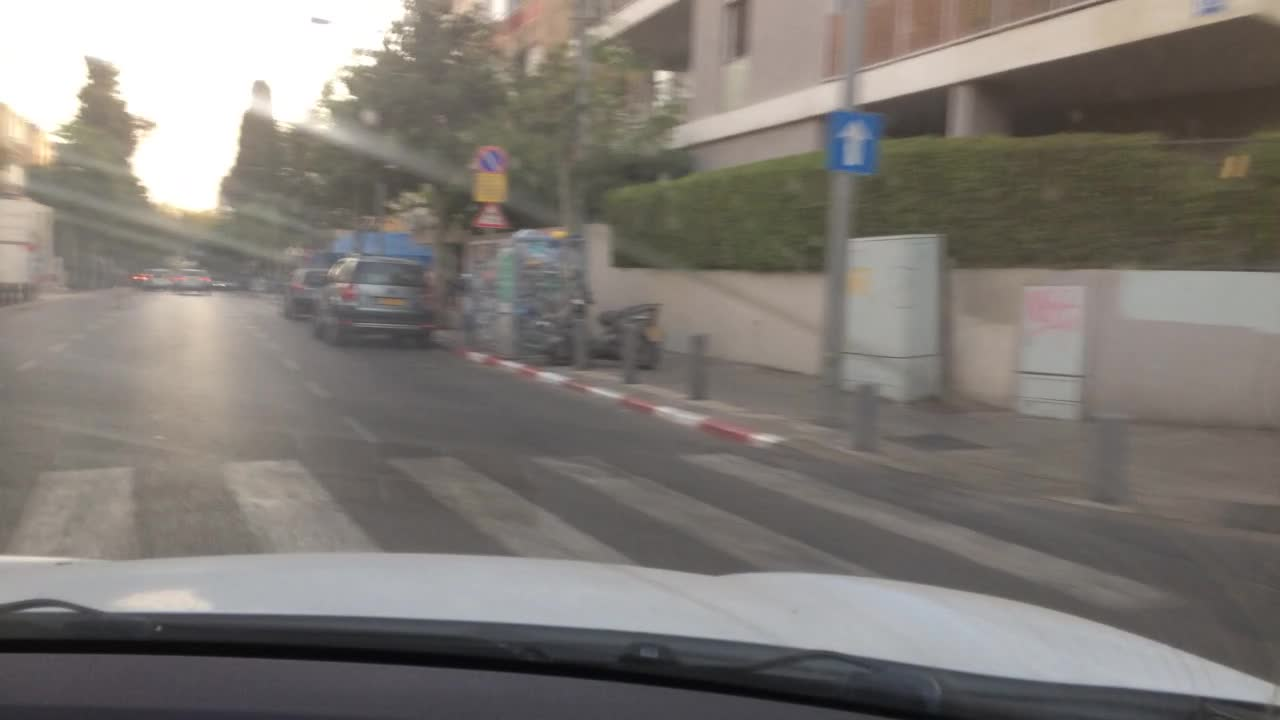car: (317, 255, 434, 354), (283, 268, 324, 320), (175, 269, 212, 291), (151, 267, 167, 286), (131, 267, 147, 282)
motor: (549, 299, 660, 369)
traffic sign: (828, 106, 883, 173), (473, 173, 507, 203), (472, 206, 513, 230), (476, 145, 505, 172)
